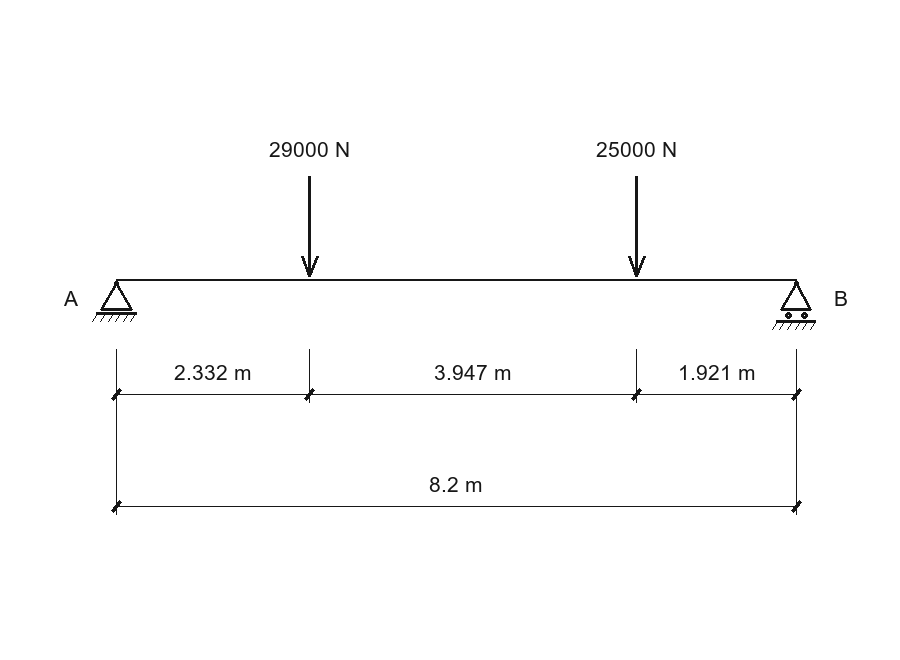pin_support: (92, 281, 137, 322)
point_load: (301, 176, 319, 277), (628, 176, 646, 277)
roller_support: (772, 281, 816, 330)
